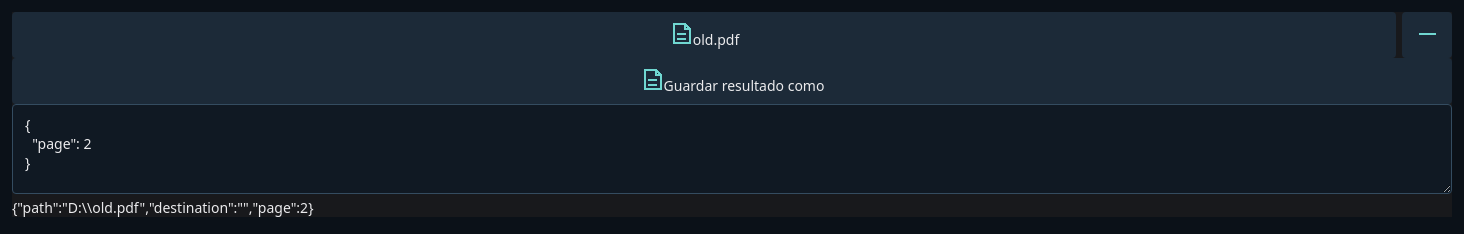
Test: tool paths are separated from ordinary arguments without altering their values
The image size is (1464, 234).
Click the button labelled "Guardar resultado como" at (732, 81), box [12, 58, 1452, 104]
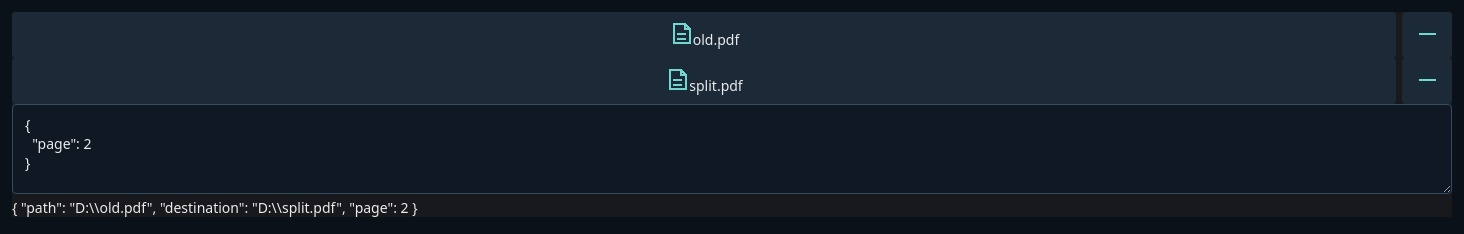
Now the text "split.pdf" is shown, box [689, 76, 743, 95]
